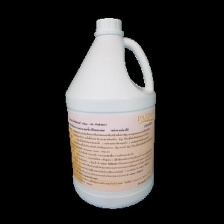cleaning_solution: (61, 15, 158, 212)
